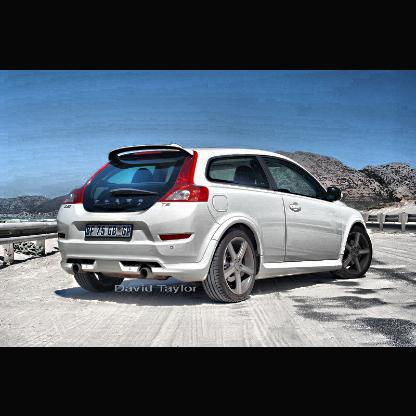Volvo C30 Hatchback 2012: (58, 144, 374, 303)
